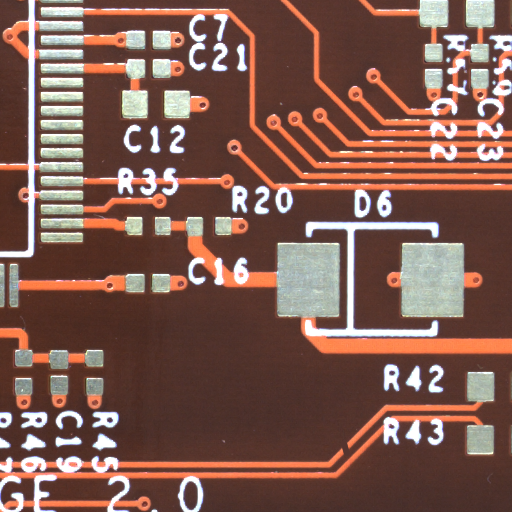Open_circuit: (345, 451, 356, 469)
